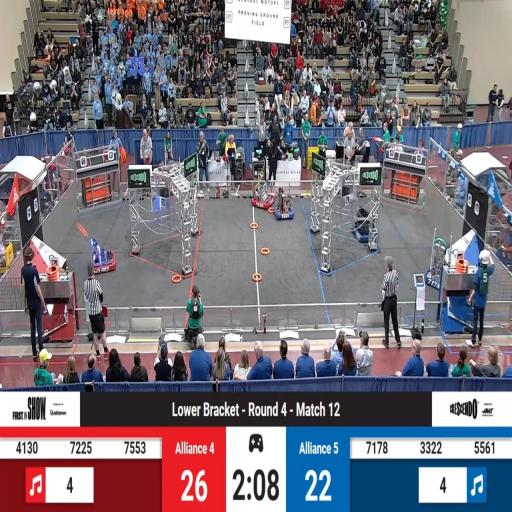robot: (427, 242, 450, 290), (350, 208, 378, 244), (91, 238, 117, 274), (254, 185, 277, 211), (274, 190, 294, 219)
